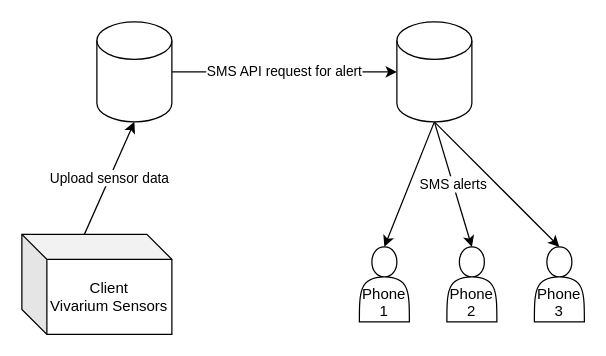
The diagram is 606 pixels wide and 356 high, and some of its shapes have lost their labels. The centre of each missing label's shape, as x and y in pixels:
FrogAlert API: pixel 134 71
Twilio SMS API: pixel 434 71
